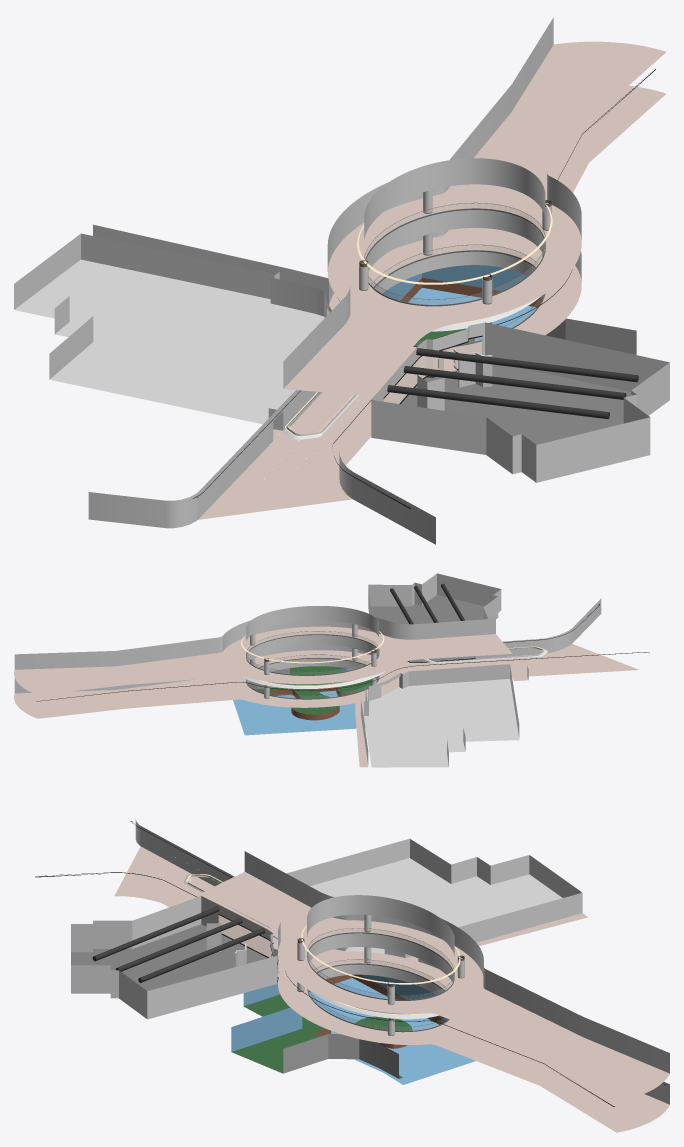
File: DreamMall.glb
3 renders of one model, top to bottom at view 1: azimuth 30°, elevation 25°; view 2: azimuth 150°, elevation 25°; view 3: azimuth 270°, elevation 25°, orthographic. The views are drawn at different scales.
Visible parts, largest first — view 1: Circle.013, Circle.015, Circle.016, Circle.017; view 2: Circle.013, Circle.015, Circle.017; view 3: Circle.013, Circle.015, Circle.017, Circle.016.
Boxes of the visible parts, <box> form: Circle.013: <box>14,17,669,544</box>; Circle.015: <box>365,203,544,304</box>; Circle.016: <box>384,337,481,403</box>; Circle.017: <box>373,245,543,345</box>; Circle.013: <box>14,573,649,767</box>; Circle.015: <box>246,632,378,674</box>; Circle.017: <box>246,655,378,698</box>; Circle.013: <box>35,819,669,1132</box>; Circle.015: <box>308,929,453,999</box>; Circle.017: <box>308,960,447,1030</box>; Circle.016: <box>219,915,278,979</box>.
Bounding box in the file's own units: 204 × 33.17 × 179.
